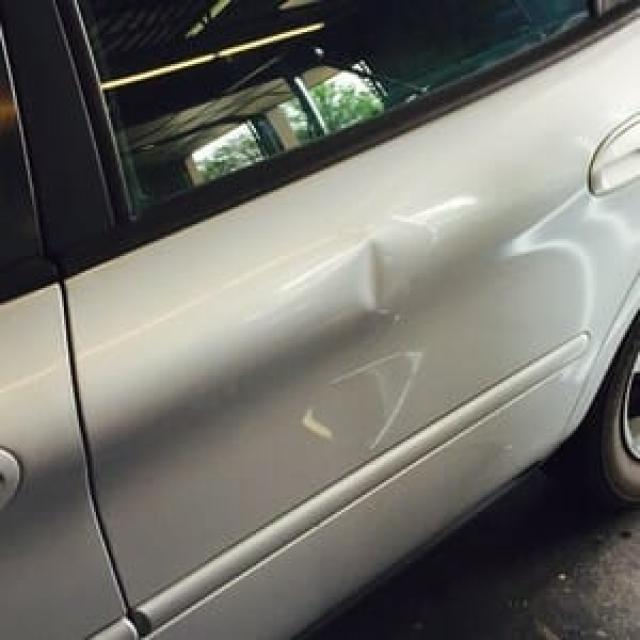Dent: (322, 231, 427, 327)
